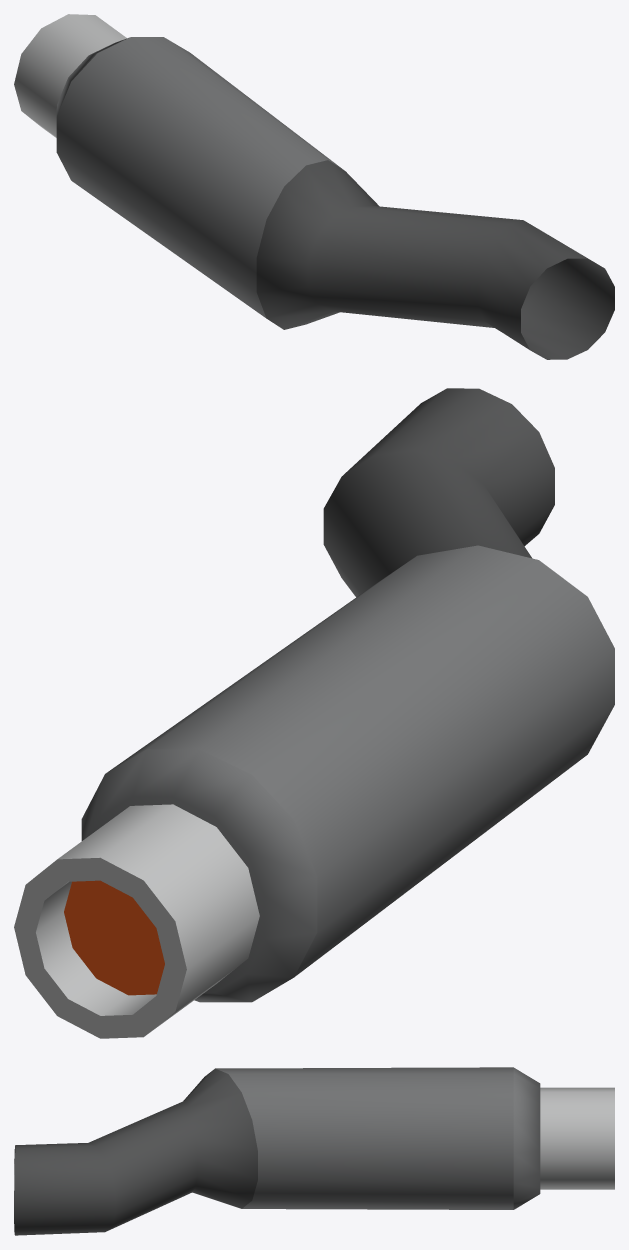
Rendered from Car_04_Pipe_Simple.fbx.
3 renders of one model, top to bottom at view 1: azimuth 30°, elevation 25°; view 2: azimuth 150°, elevation 25°; view 3: azimuth 270°, elevation 25°, orthographic. The views are drawn at different scales.
Visible parts, largest first — view 1: Car_04_Pipe_Simple; view 2: Car_04_Pipe_Simple; view 3: Car_04_Pipe_Simple.
Boxes of the visible parts, x1,y1,x2,y2 form: Car_04_Pipe_Simple: [14, 14, 614, 359]; Car_04_Pipe_Simple: [14, 388, 614, 1038]; Car_04_Pipe_Simple: [14, 1067, 614, 1235].
Size of the model in its own units: 35.31 by 89.96 by 21.37.
